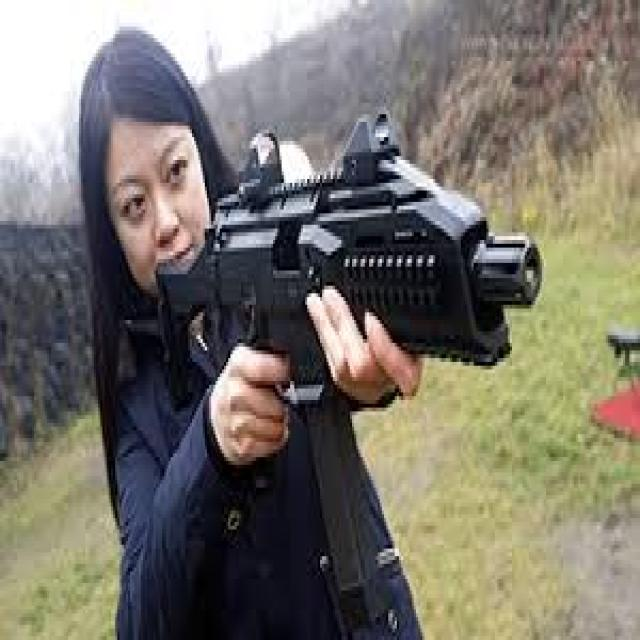gun: (127, 94, 545, 499)
